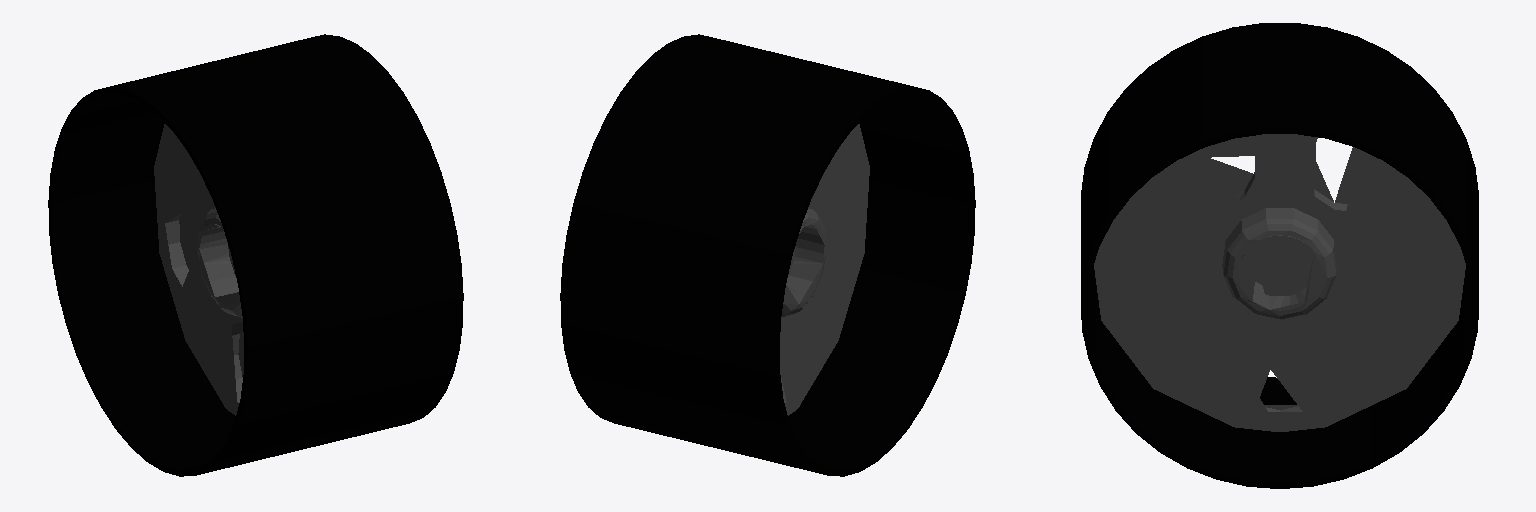
Rendered from Rad-hinten-links.obj.
3 renders of one model, left to right at view 1: azimuth 30°, elevation 25°; view 2: azimuth 150°, elevation 25°; view 3: azimuth 270°, elevation 25°, orthographic.
Parts seen in each view (by area): view 1: Frontspoiler_4.4.4_-_Abweiser_konvex.002_Frontspoiler_4.4.4_-_Ab, Rad_3.002_Rad_3.003; view 2: Frontspoiler_4.4.4_-_Abweiser_konvex.002_Frontspoiler_4.4.4_-_Ab, Rad_3.002_Rad_3.003; view 3: Rad_3.002_Rad_3.003, Frontspoiler_4.4.4_-_Abweiser_konvex.002_Frontspoiler_4.4.4_-_Ab.
Part boxes in pixels (x1,y1,x2,y2): Frontspoiler_4.4.4_-_Abweiser_konvex.002_Frontspoiler_4.4.4_-_Ab: (48, 34, 463, 476); Rad_3.002_Rad_3.003: (154, 124, 243, 415); Frontspoiler_4.4.4_-_Abweiser_konvex.002_Frontspoiler_4.4.4_-_Ab: (560, 34, 975, 476); Rad_3.002_Rad_3.003: (780, 124, 869, 415); Rad_3.002_Rad_3.003: (1094, 134, 1465, 431); Frontspoiler_4.4.4_-_Abweiser_konvex.002_Frontspoiler_4.4.4_-_Ab: (1081, 23, 1478, 488).
Size of the model in its own units: 0.2028 by 0.3239 by 0.3242.